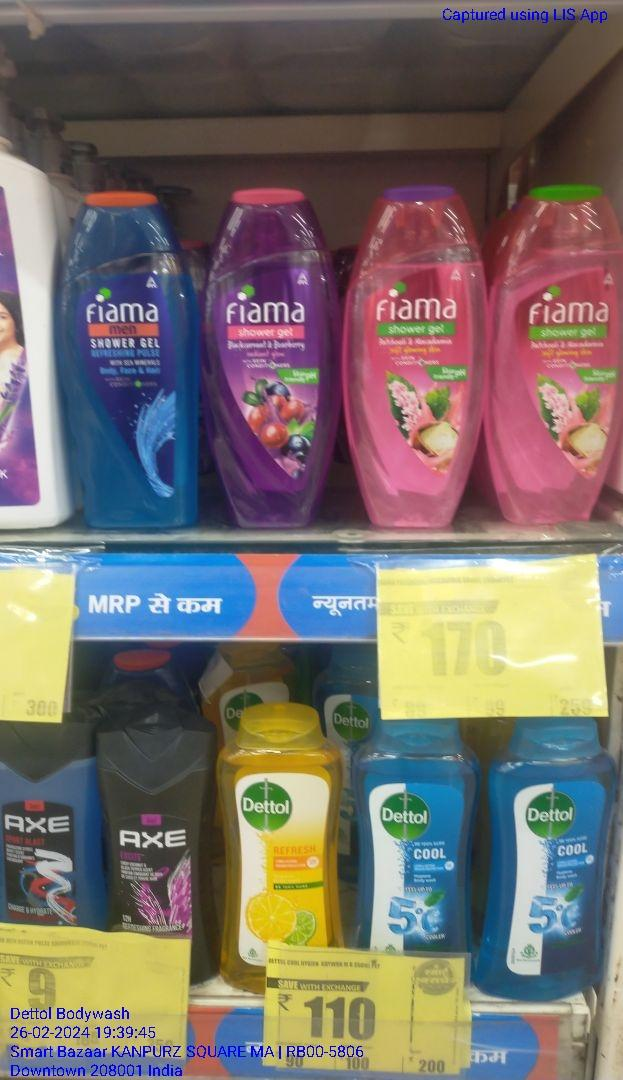Dettol_Bodywash_Cool: (485, 717, 604, 999), (360, 720, 472, 965)
Dettol_Bodywash_Refresh: (222, 709, 346, 1003)
